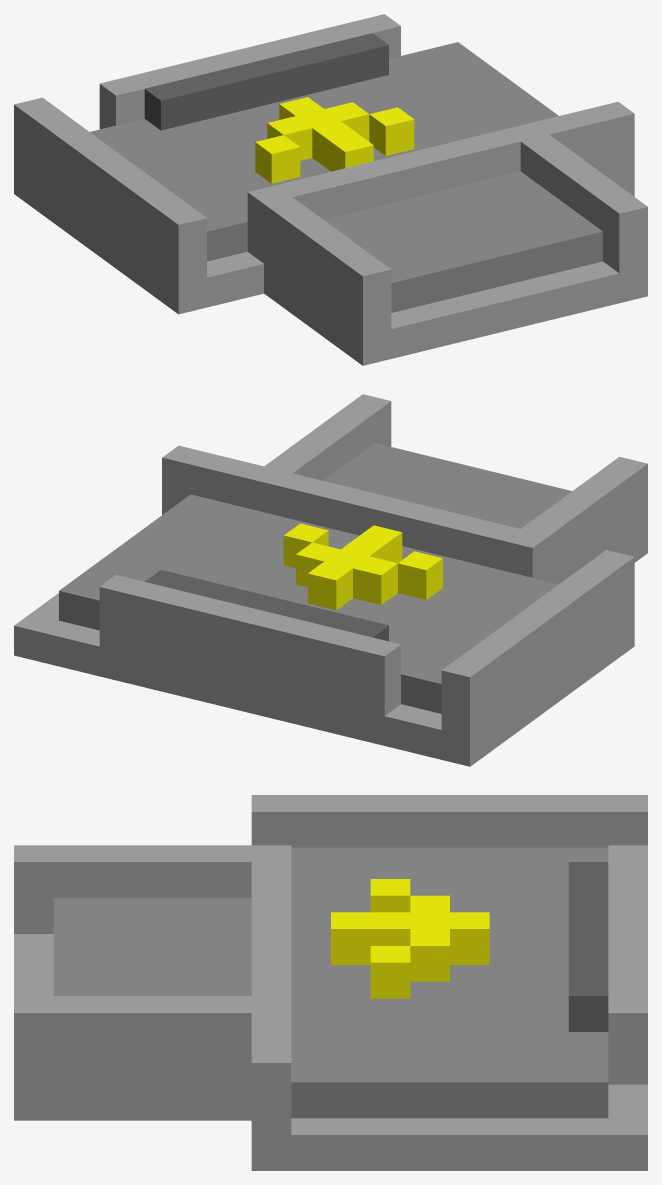
The model's file is corner_left.glb.
3 renders of one model, top to bottom at view 1: azimuth 30°, elevation 25°; view 2: azimuth 150°, elevation 25°; view 3: azimuth 270°, elevation 25°, orthographic. The views are drawn at different scales.
Visible parts, largest first — view 1: VoxelModel; view 2: VoxelModel; view 3: VoxelModel.
Boxes of the visible parts, left/top/right/bottom form: VoxelModel: left=14, top=14, right=647, bottom=365; VoxelModel: left=14, top=394, right=647, bottom=766; VoxelModel: left=14, top=795, right=647, bottom=1170.
Size of the model in its own units: 1 by 0.1875 by 1.
